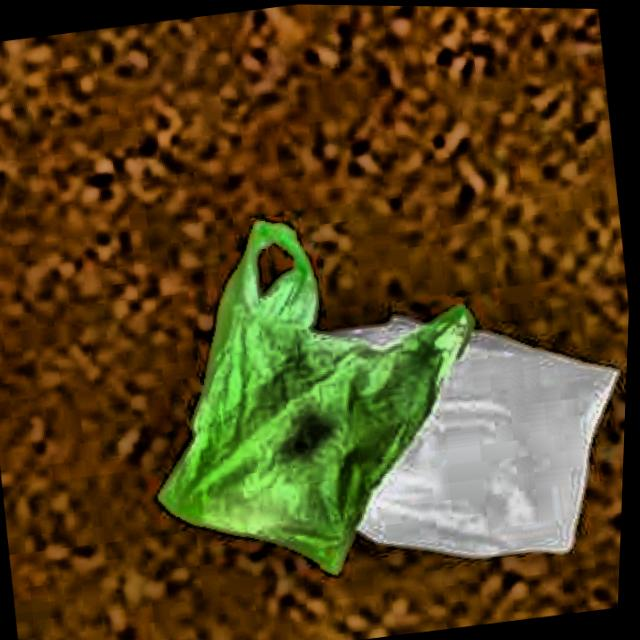Plastic: (113, 188, 516, 619), (280, 254, 633, 607)
